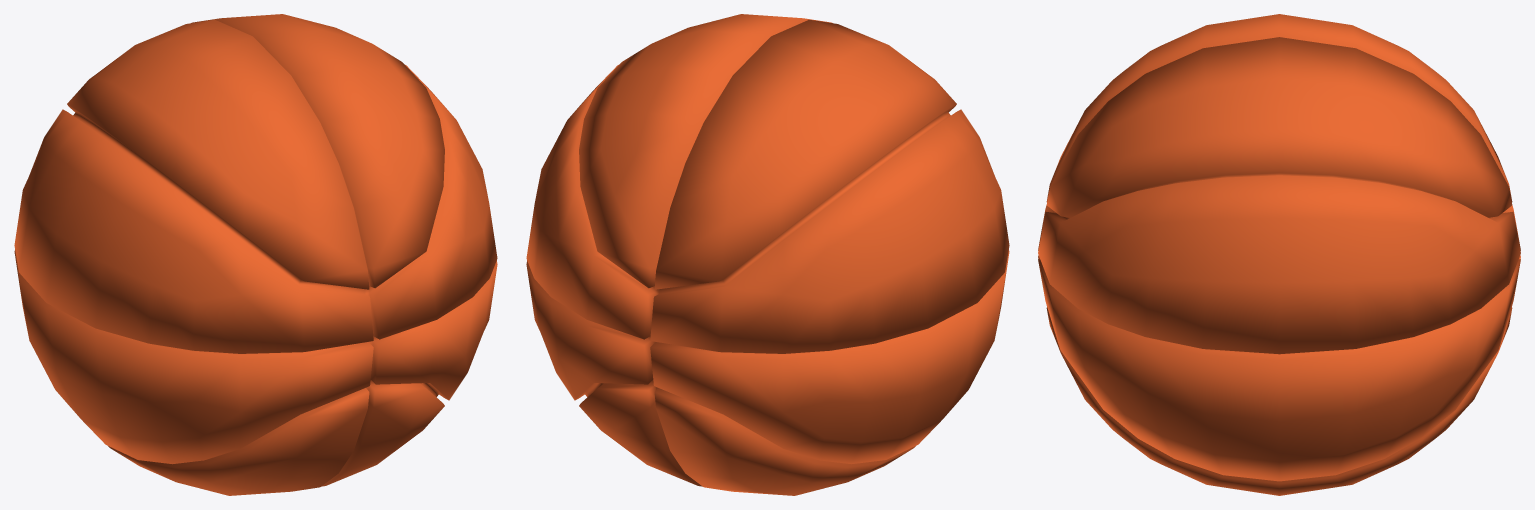
The model's file is ball.glb.
3 views of the same model, side by side, from view 1: azimuth 30°, elevation 25°; view 2: azimuth 150°, elevation 25°; view 3: azimuth 270°, elevation 25° (orthographic).
Parts seen in each view (by area): view 1: ball; view 2: ball; view 3: ball.
Boxes of the visible parts, x1,y1,x2,y2 form: ball: (14, 14, 497, 495); ball: (526, 14, 1009, 495); ball: (1038, 14, 1520, 495).
Size of the model in its own units: 0.6539 by 0.6539 by 0.6524.
